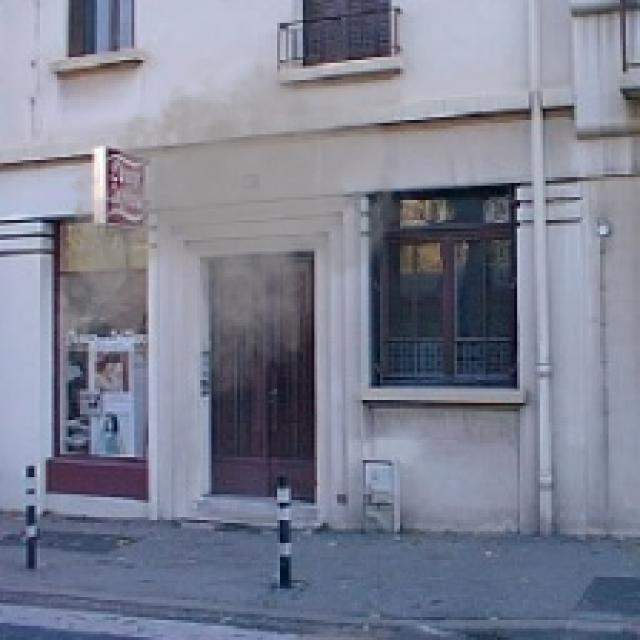Smoke: (46, 34, 420, 417)
